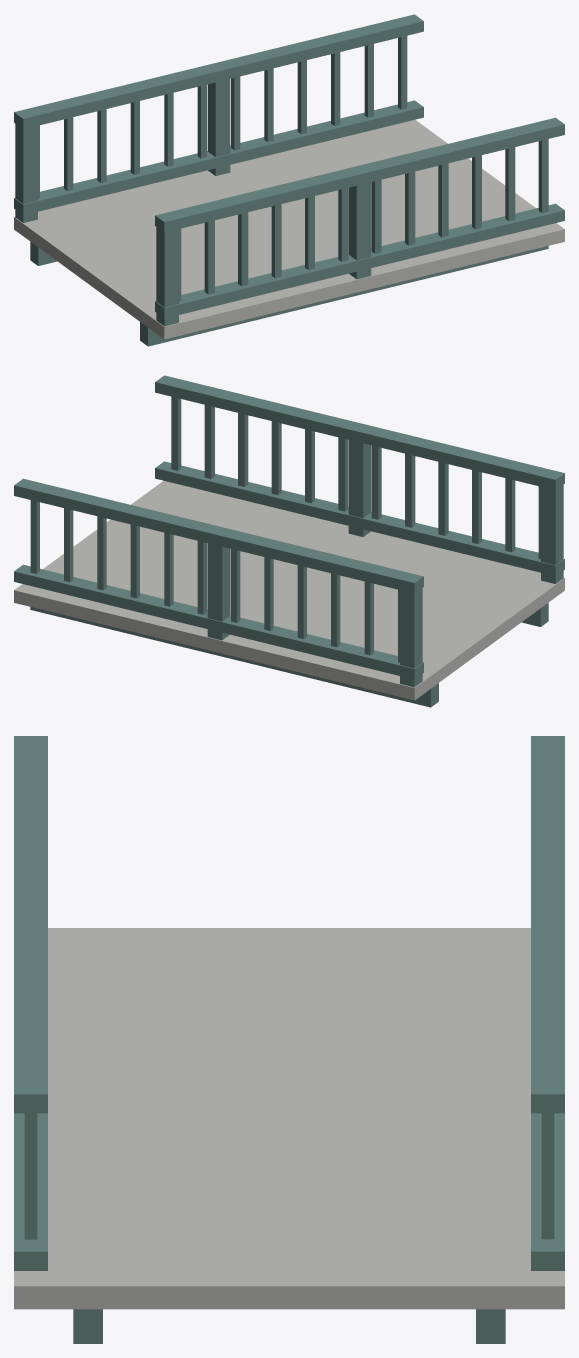
The model's file is bridge_span_03.glb.
3 renders of one model, top to bottom at view 1: azimuth 30°, elevation 25°; view 2: azimuth 150°, elevation 25°; view 3: azimuth 270°, elevation 25°, orthographic. The views are drawn at different scales.
Parts seen in each view (by area): view 1: Bridge_span_03; view 2: Bridge_span_03; view 3: Bridge_span_03.
Part boxes in pixels (x1,y1,x2,y2): Bridge_span_03: [14, 14, 564, 346]; Bridge_span_03: [14, 375, 564, 707]; Bridge_span_03: [14, 736, 564, 1343].
Bounding box in the file's own units: 4 × 1.3 × 2.6.
